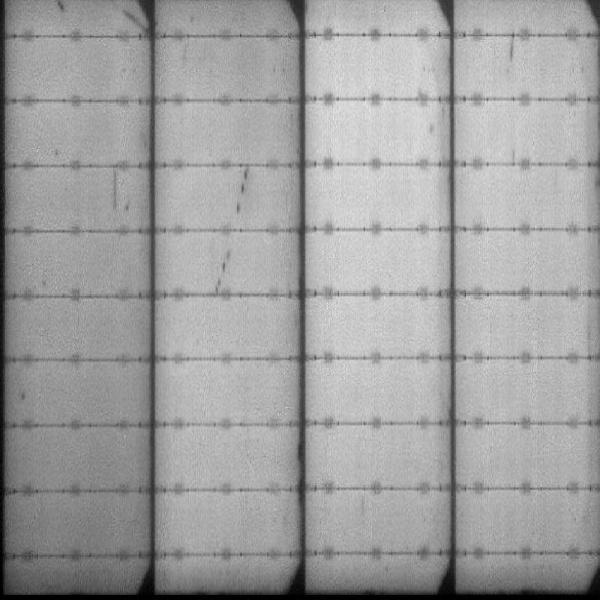scratch: (214, 166, 253, 223), (213, 247, 233, 292), (122, 7, 151, 35), (111, 168, 121, 211), (506, 32, 516, 66)
